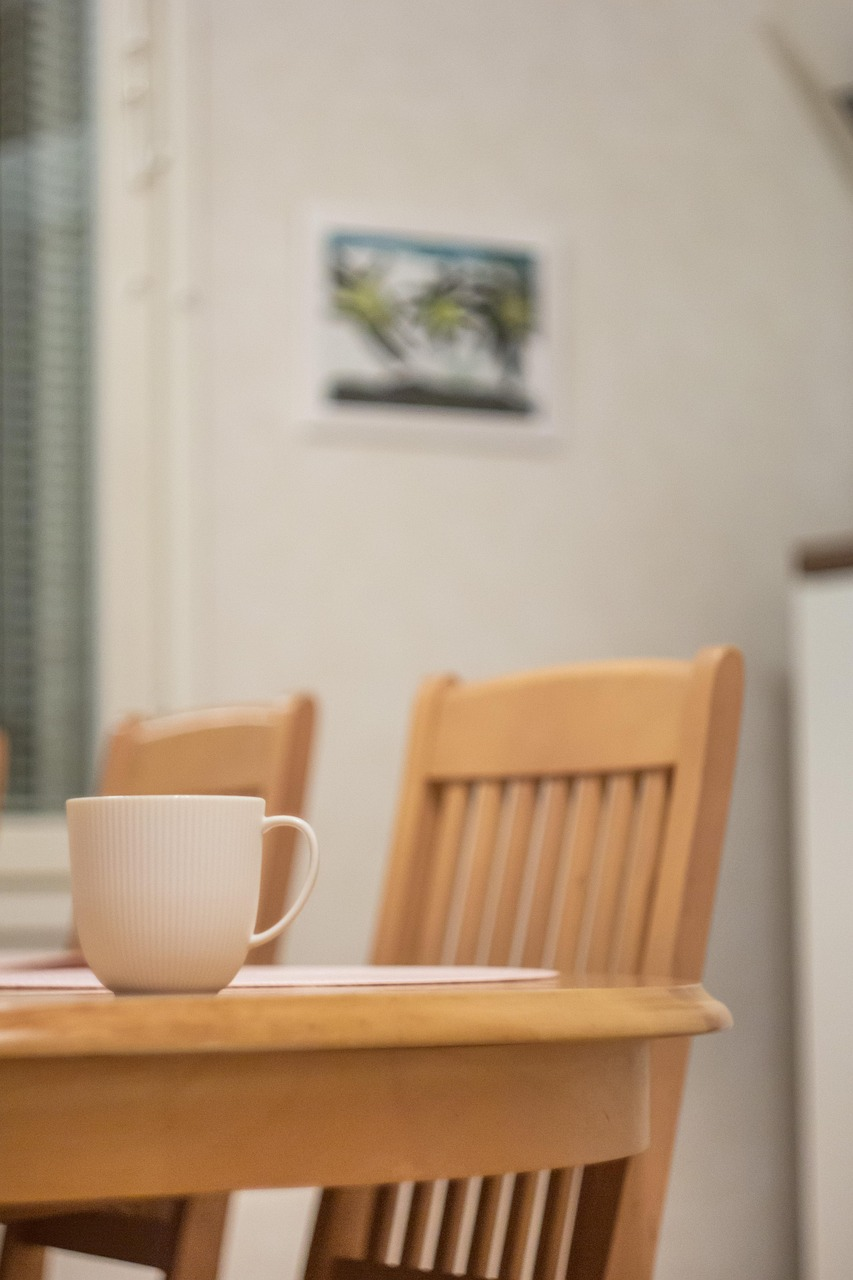mug: (11, 720, 386, 1039)
